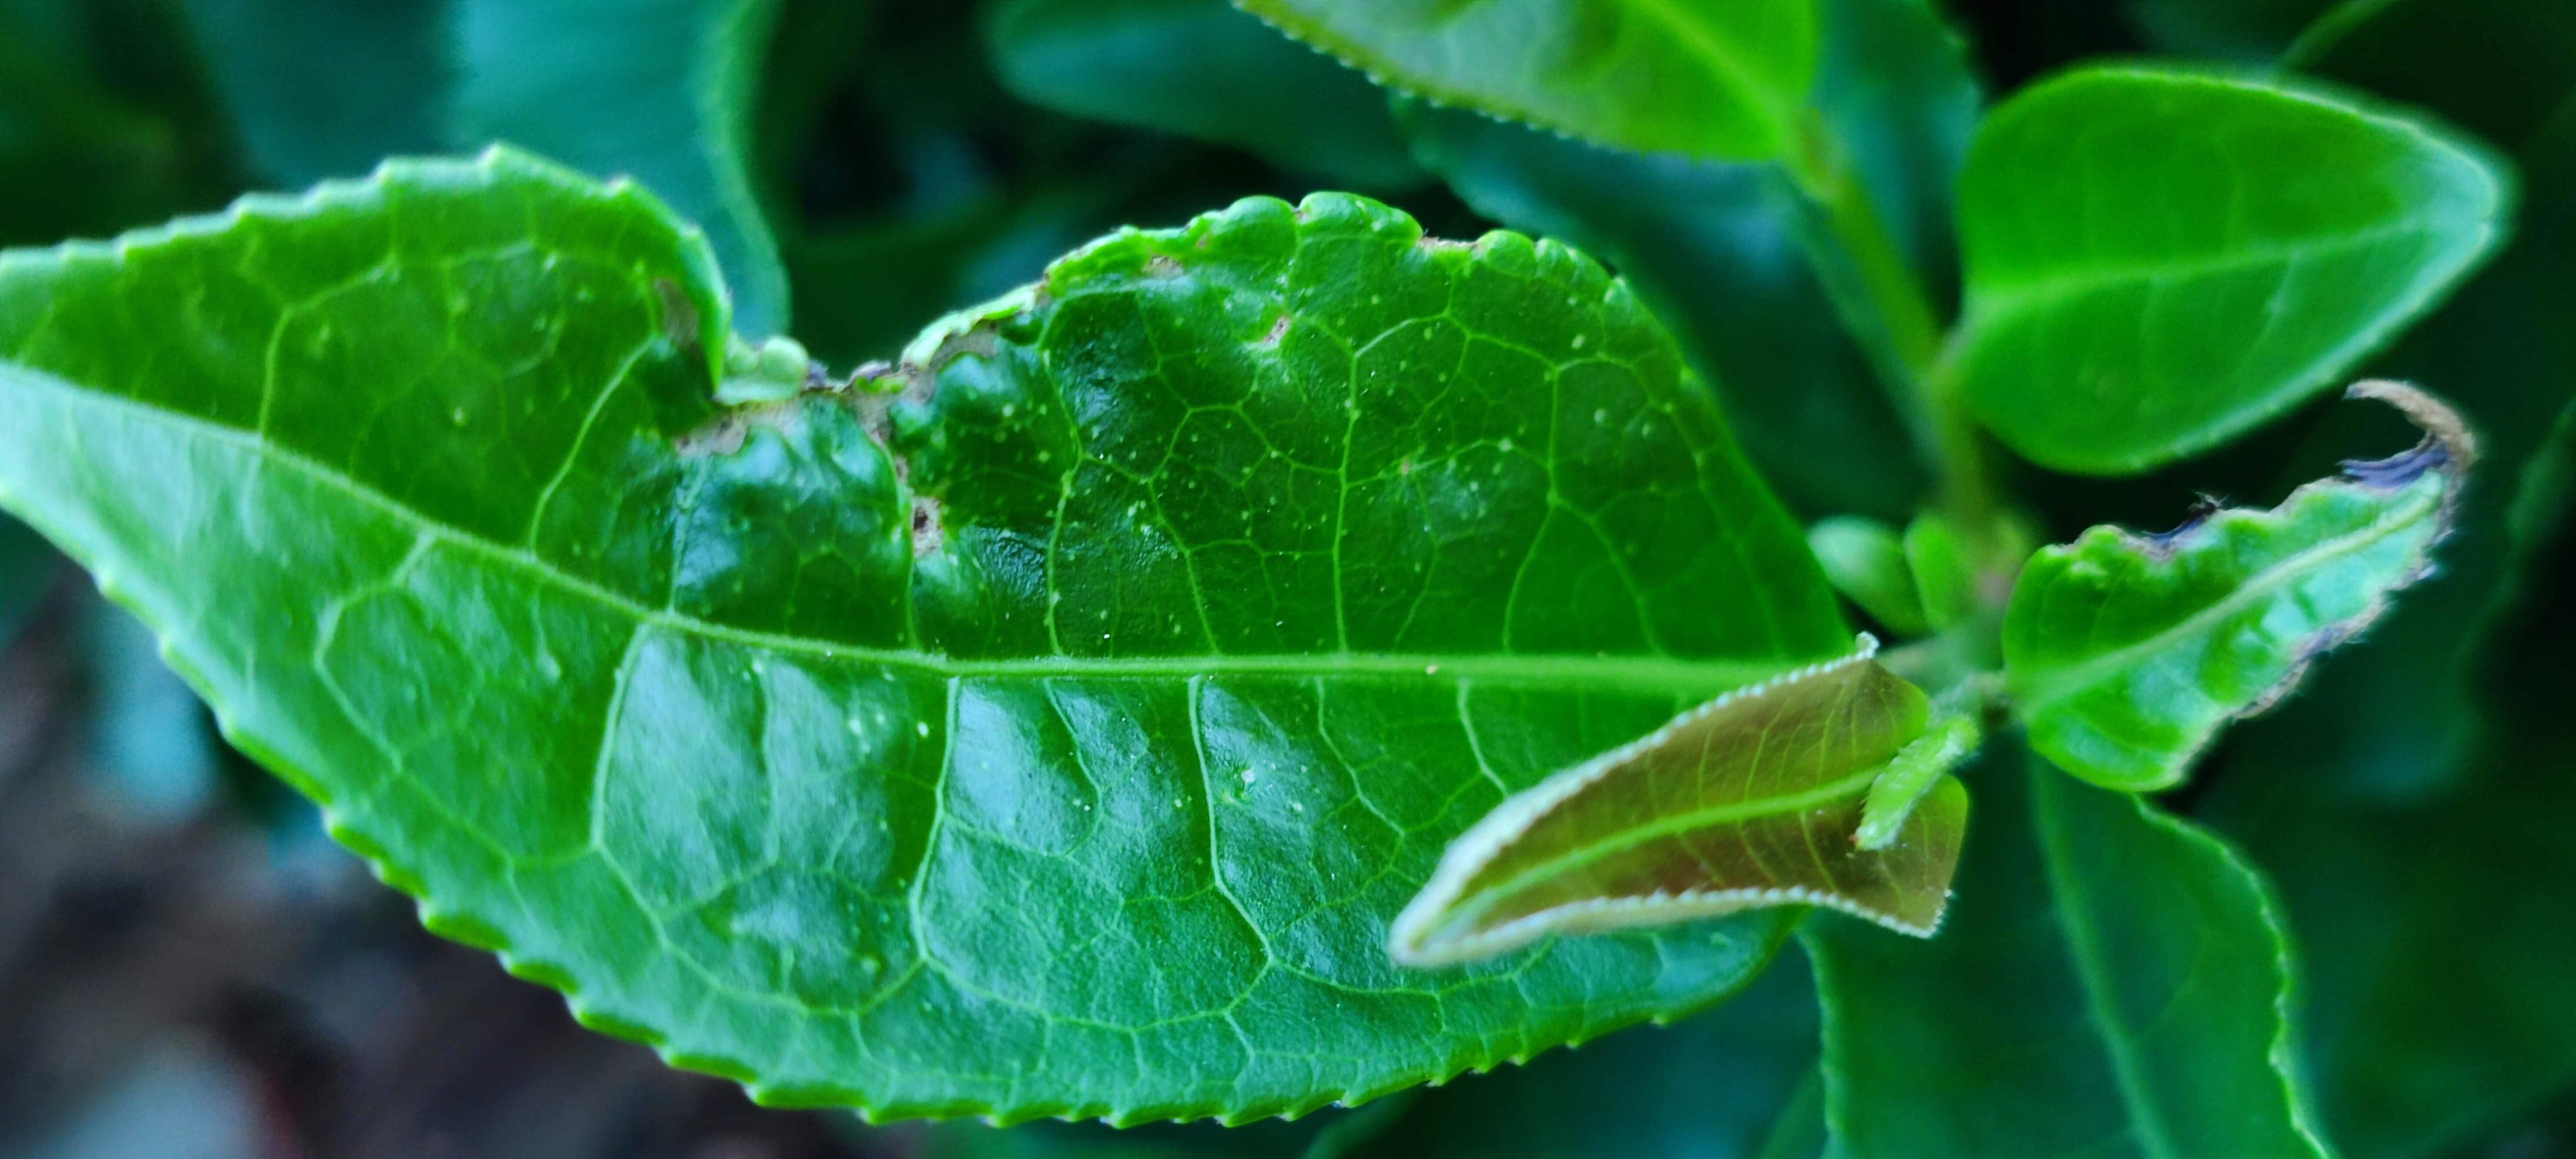chihuo_high: (1981, 374, 2487, 801)
chihuo_low: (5, 131, 1888, 1136)
healthy: (1927, 62, 2512, 483)
tanju_low: (1387, 627, 1994, 960)
